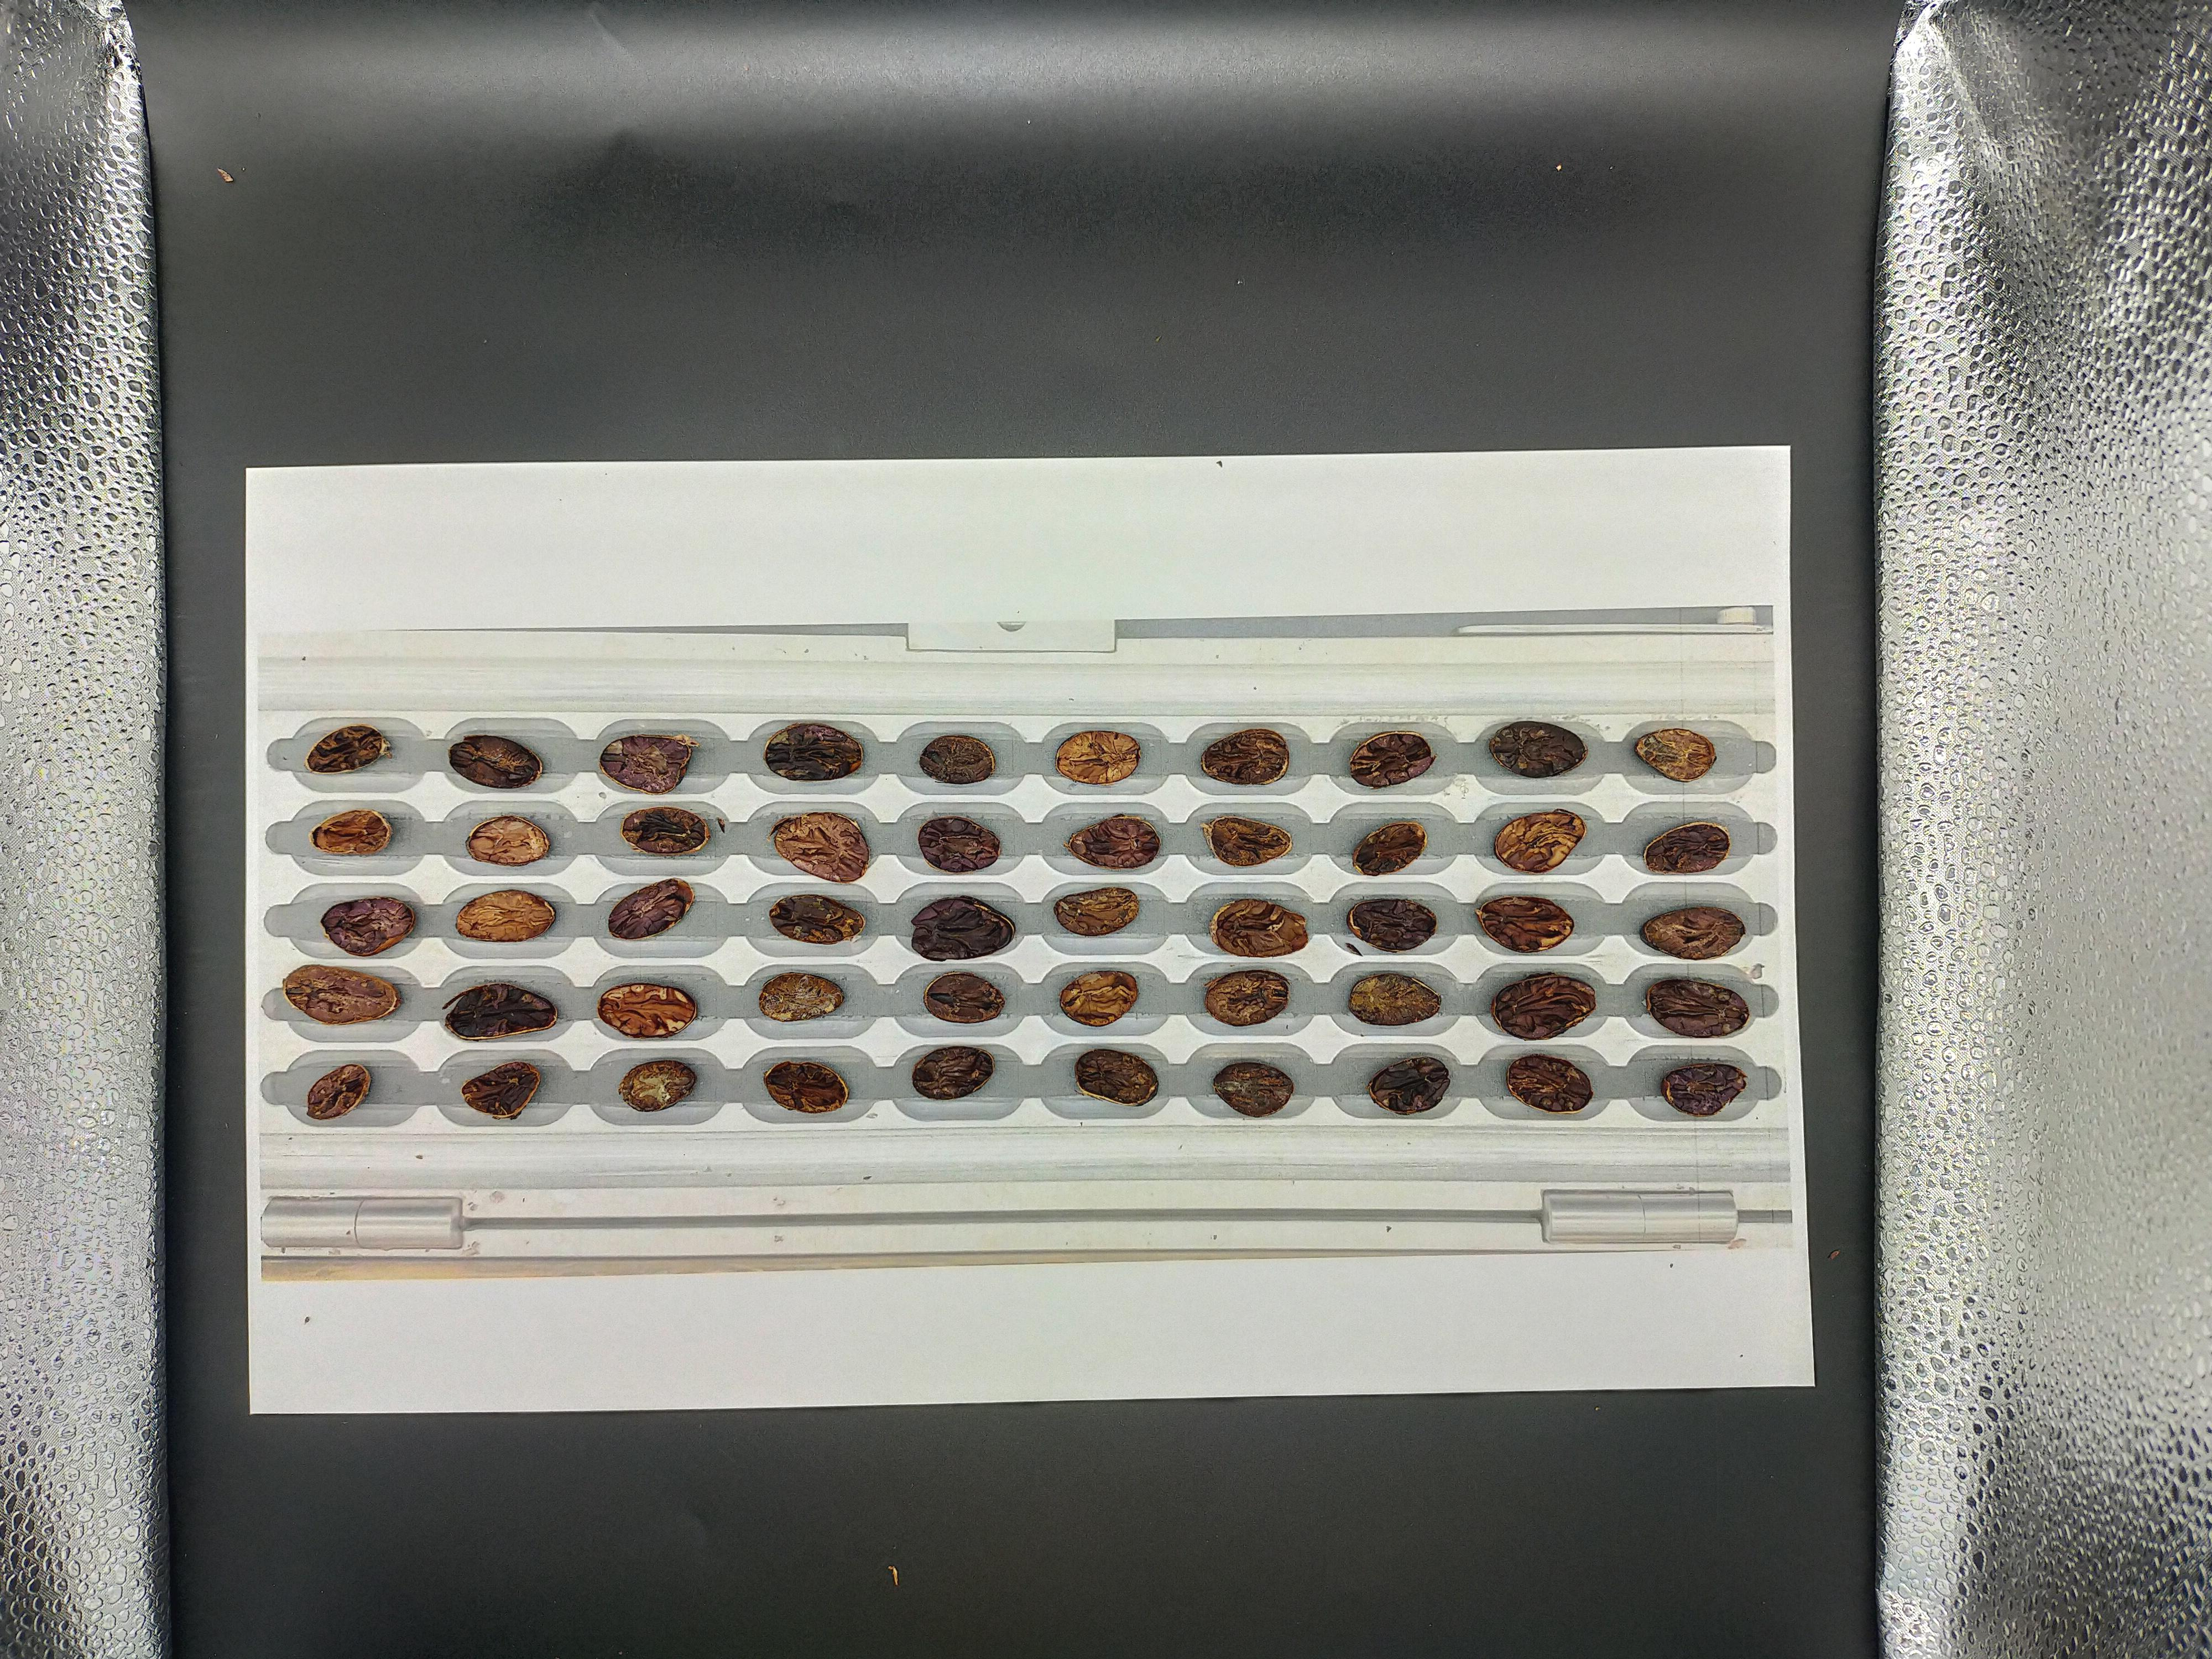Brown - G1: (1841, 497, 1898, 535), (1381, 502, 1442, 535), (1834, 457, 1892, 491), (1237, 413, 1284, 444)
Brown - G2: (1474, 415, 1531, 455), (1841, 411, 1893, 451), (1696, 458, 1752, 493), (1689, 371, 1743, 406), (1846, 538, 1900, 573), (1468, 538, 1519, 573), (1623, 416, 1677, 448), (1768, 418, 1815, 453), (1695, 415, 1743, 448), (1620, 495, 1665, 530)
Brown - G3: (1221, 490, 1291, 528), (1916, 458, 1975, 495), (1310, 451, 1367, 486), (1618, 369, 1669, 408), (1627, 535, 1676, 572), (1693, 493, 1743, 528), (1318, 413, 1366, 446), (1618, 451, 1667, 483), (1552, 495, 1599, 526), (1233, 540, 1273, 577)
Insect-damaged: (1766, 495, 1824, 528)
Mouldy: (1463, 495, 1517, 528), (1698, 540, 1747, 575), (1395, 540, 1442, 573), (1548, 373, 1592, 406), (1916, 371, 1961, 403)
Partly Purple - G1: (1543, 455, 1604, 497), (1766, 371, 1818, 408)
Partly Purple - G2: (1303, 500, 1369, 535), (1467, 368, 1527, 404), (1919, 497, 1977, 535), (1766, 457, 1820, 488), (1547, 416, 1597, 450), (1392, 411, 1447, 441)
Partly Purple - G3: (1388, 446, 1442, 484)
Total Purple - G2: (1930, 538, 1977, 579)
Total Purple - G3: (1385, 371, 1440, 410), (1240, 457, 1296, 493)
Very Dark Brown - G1: (1233, 368, 1285, 403)
Very Dark Brown - G2: (1916, 418, 1972, 453), (1778, 537, 1827, 575), (1312, 538, 1360, 577), (1543, 532, 1592, 568)
Very Dark Brown - G3: (1836, 368, 1898, 401), (1308, 373, 1364, 408), (1470, 455, 1526, 488)
